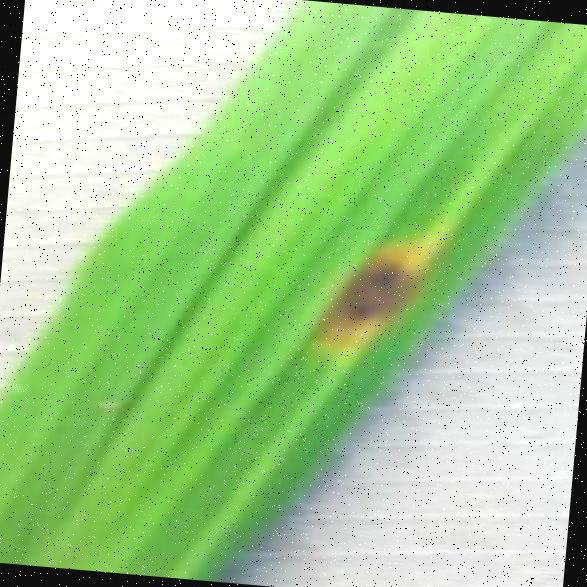Brown_Spot: (294, 220, 451, 373)
